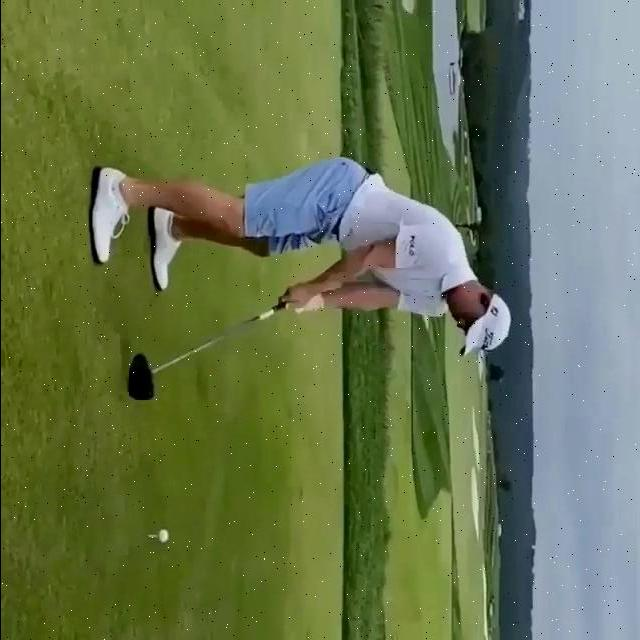golf ball: (157, 529, 167, 544)
golf club-handle: (127, 302, 286, 400)
golf club-head: (126, 353, 153, 400)
